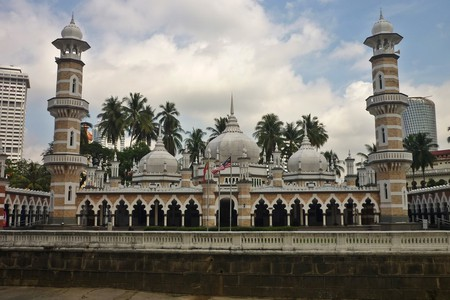Mosque: (3, 13, 424, 215)
